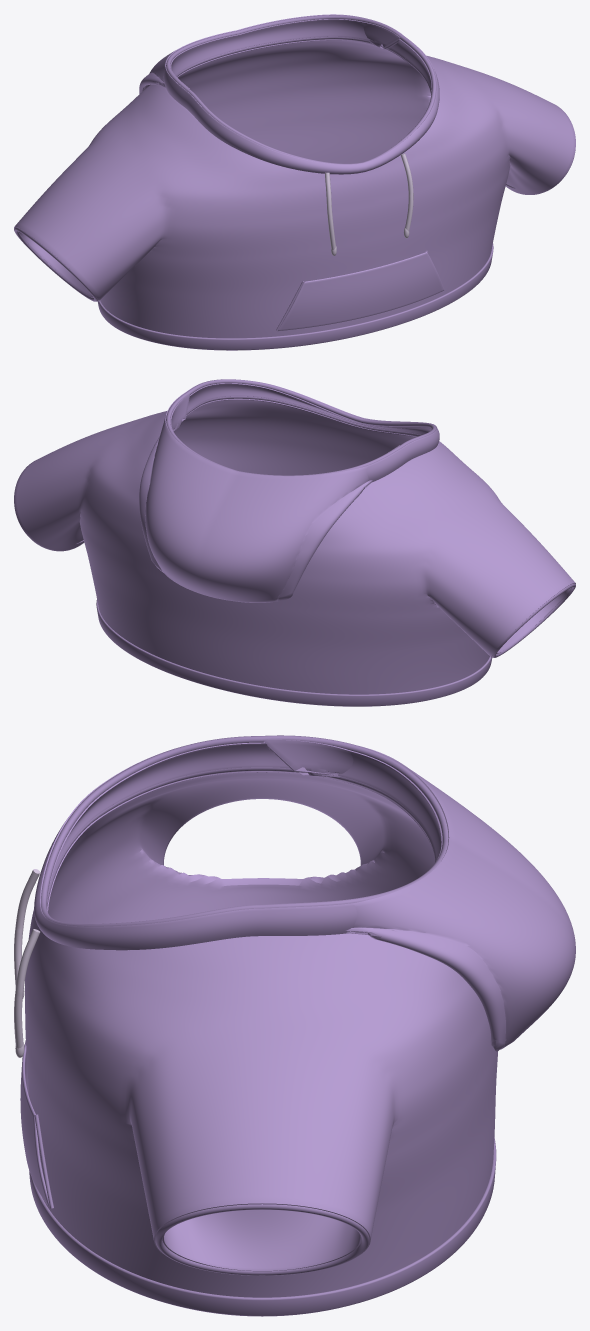
File: Masculine-sweatshirt-top.glb
The picture shows the model from 3 angles, top to bottom: view 1: azimuth 30°, elevation 25°; view 2: azimuth 150°, elevation 25°; view 3: azimuth 270°, elevation 25°; orthographic projection. The views are drawn at different scales.
Parts seen in each view (by area): view 1: Clothing / sweatshirt, Hoodie / attached opening, Hoodie / kangaroo pocket, Hoodie / ribbed hem, Hoodie / rolled opening export, Hoodie / resting hood, Neckline / fitted crew export, Sleeve / soft cuff -1 export, Hoodie / drawcord 1 export, Hoodie / drawcord -1 export; view 2: Clothing / sweatshirt, Hoodie / resting hood, Hoodie / ribbed hem, Hoodie / attached opening, Hoodie / rolled opening export, Neckline / fitted crew export, Sleeve / soft cuff -1 export; view 3: Clothing / sweatshirt, Hoodie / resting hood, Hoodie / attached opening, Hoodie / ribbed hem, Hoodie / rolled opening export, Sleeve / soft cuff 1 export, Hoodie / kangaroo pocket, Neckline / fitted crew export, Hoodie / drawcord 1 export, Hoodie / drawcord -1 export.
Boxes of the visible parts, x1,y1,x2,y2 form: Clothing / sweatshirt: (14, 39, 575, 338); Hoodie / attached opening: (163, 19, 439, 174); Hoodie / kangaroo pocket: (278, 252, 443, 330); Hoodie / ribbed hem: (98, 243, 493, 350); Hoodie / rolled opening export: (166, 15, 436, 164); Hoodie / resting hood: (139, 14, 400, 93); Neckline / fitted crew export: (176, 36, 428, 86); Sleeve / soft cuff -1 export: (14, 227, 97, 301); Hoodie / drawcord 1 export: (400, 153, 413, 231); Hoodie / drawcord -1 export: (325, 172, 335, 249); Clothing / sweatshirt: (14, 398, 575, 694); Hoodie / resting hood: (139, 394, 399, 602); Hoodie / ribbed hem: (96, 600, 492, 706); Hoodie / attached opening: (164, 382, 439, 482); Hoodie / rolled opening export: (166, 379, 436, 476); Neckline / fitted crew export: (186, 396, 420, 436); Sleeve / soft cuff -1 export: (492, 583, 575, 657); Clothing / sweatshirt: (25, 771, 497, 1297); Hoodie / resting hood: (262, 739, 575, 1051); Hoodie / attached opening: (34, 742, 442, 950); Hoodie / ribbed hem: (29, 1137, 496, 1315); Hoodie / rolled opening export: (41, 735, 448, 926); Sleeve / soft cuff 1 export: (155, 1204, 369, 1275); Hoodie / kangaroo pocket: (20, 1040, 49, 1207); Neckline / fitted crew export: (47, 767, 435, 908); Hoodie / drawcord 1 export: (14, 929, 40, 1048); Hoodie / drawcord -1 export: (14, 869, 40, 987).
Bounding box in the file's own units: 0.9778 × 0.3911 × 0.5594.
